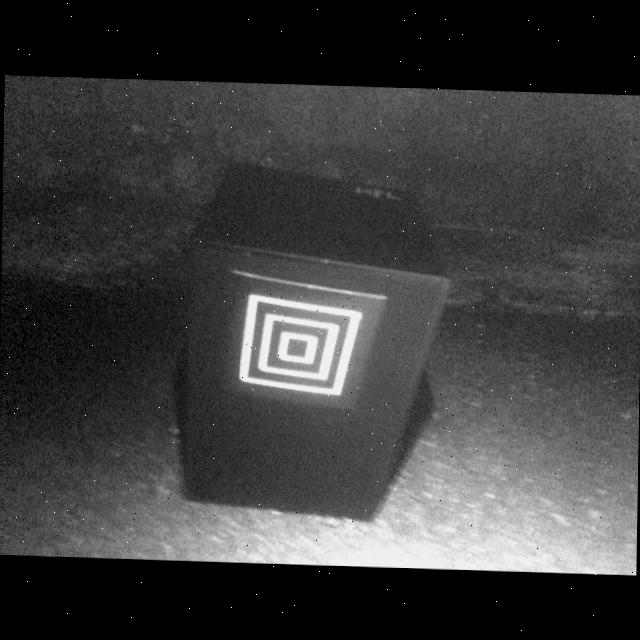BULLSEYE: (239, 294, 360, 393)
